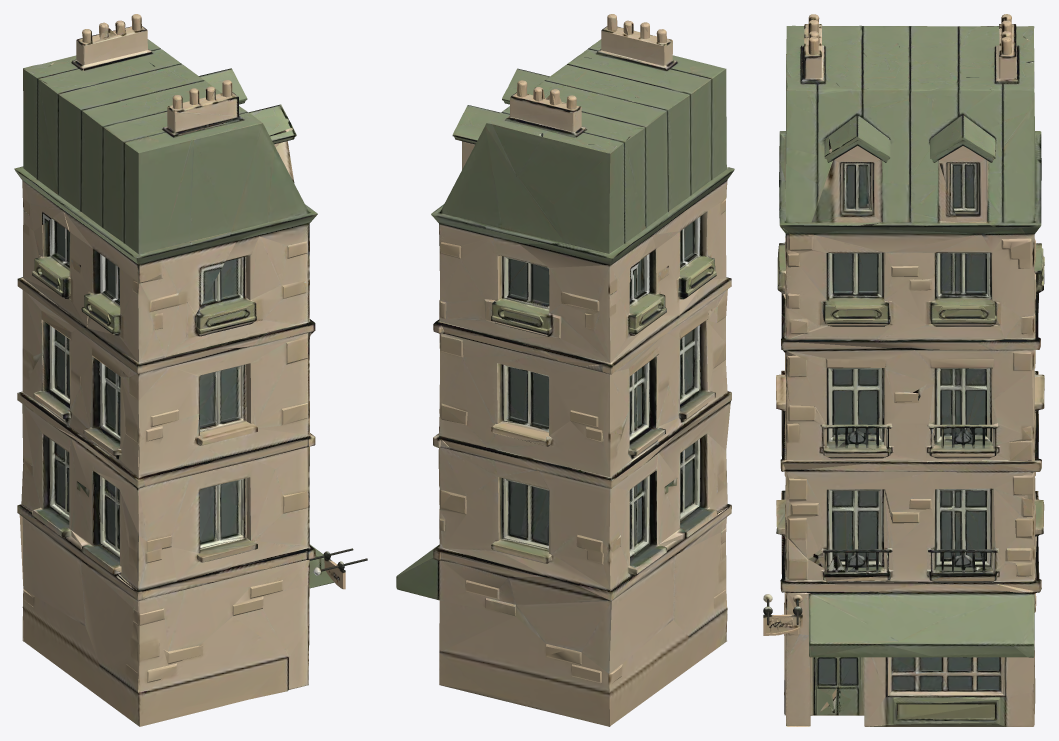
Rendered from building2_meshopt.glb.
3 views of the same model, side by side, from view 1: azimuth 30°, elevation 25°; view 2: azimuth 150°, elevation 25°; view 3: azimuth 270°, elevation 25° (orthographic). The views are drawn at different scales.
Parts seen in each view (by area): view 1: output_unwrapped; view 2: output_unwrapped; view 3: output_unwrapped.
Part boxes in pixels (left/top/right/bottom): output_unwrapped: left=14, top=14, right=367, bottom=726; output_unwrapped: left=396, top=14, right=734, bottom=726; output_unwrapped: left=763, top=14, right=1044, bottom=726.
Bounding box in the file's own units: 0.783 × 2 × 0.781.
1 material, 1 textured.
